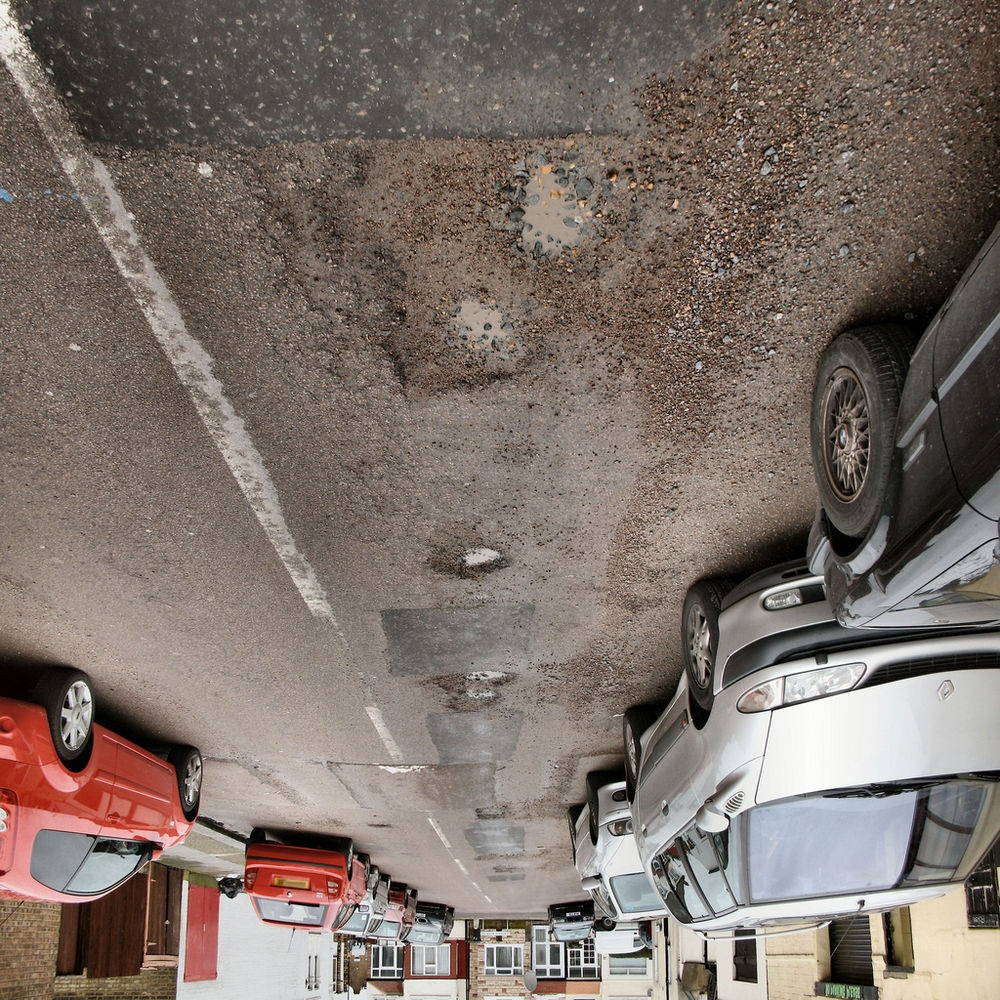pothole: (393, 292, 537, 406), (516, 147, 612, 263), (443, 649, 526, 726), (439, 531, 527, 574), (479, 844, 547, 863), (474, 803, 507, 825), (368, 818, 397, 832), (496, 866, 525, 872)
